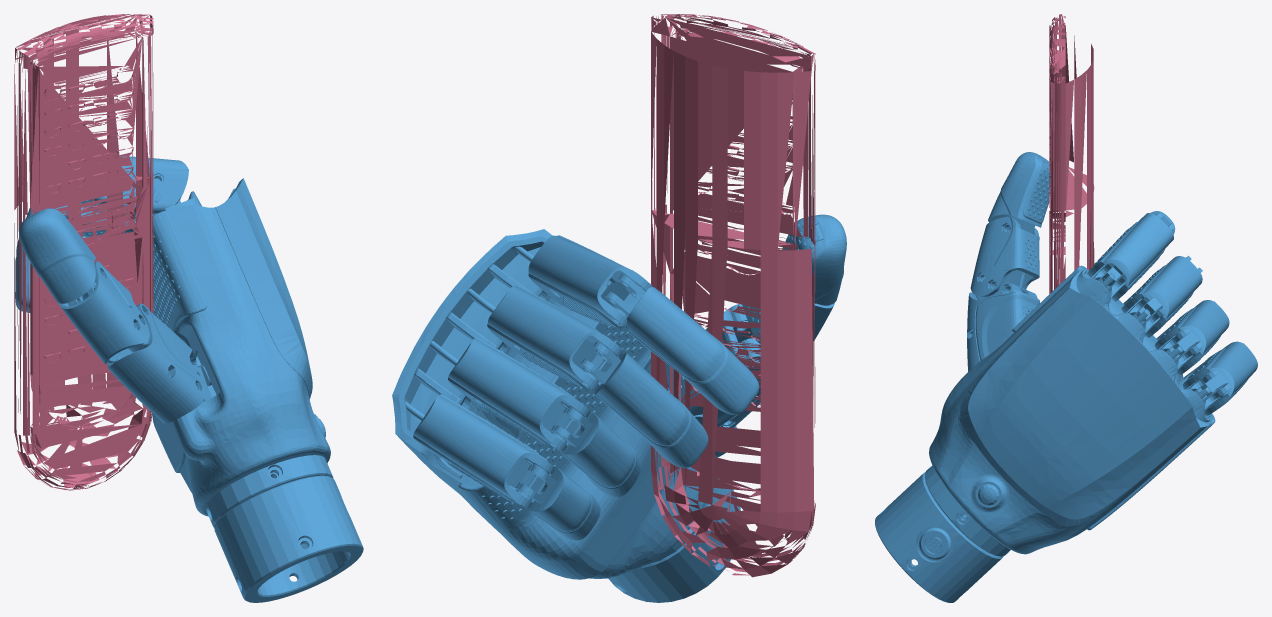
3 renders of one model, left to right at view 1: azimuth 30°, elevation 25°; view 2: azimuth 150°, elevation 25°; view 3: azimuth 270°, elevation 25°, orthographic. The views are drawn at different scales.
Parts seen in each view (by area): view 1: 0; view 2: 0; view 3: 0.
Part boxes in pixels (<box>): 0: <box>14,14,363,602</box>; 0: <box>392,14,846,602</box>; 0: <box>875,14,1257,602</box>.
Bounding box in the file's own units: 0.131 × 0.2399 × 0.1651.
